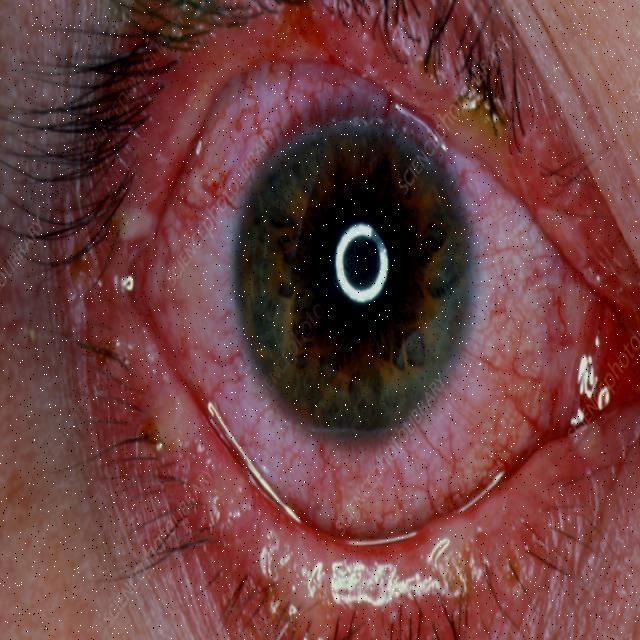Conjunctivitis: (90, 57, 640, 547)
